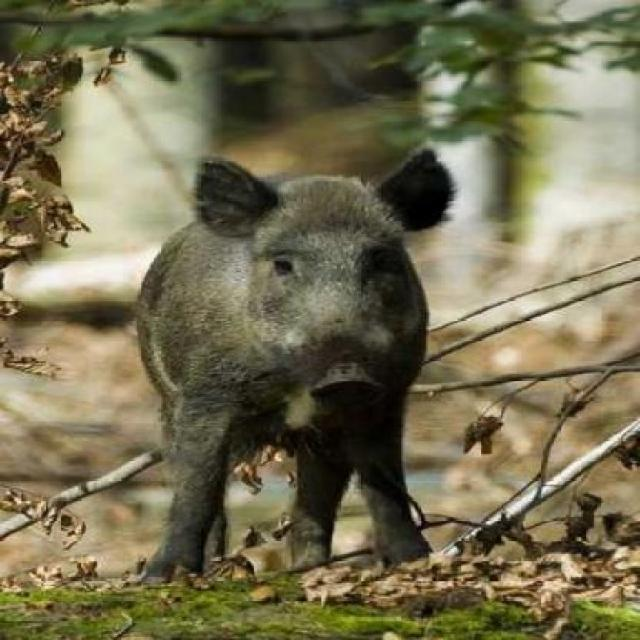pig: (111, 131, 476, 586)
